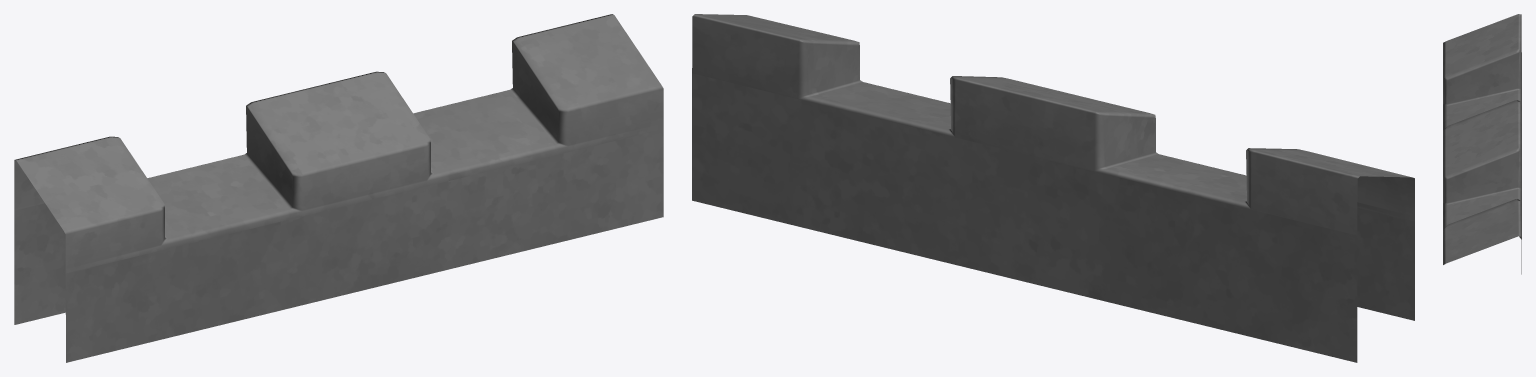
Rendered from BrickRailing_Main.fbx.
3 views of the same model, side by side, from view 1: azimuth 30°, elevation 25°; view 2: azimuth 150°, elevation 25°; view 3: azimuth 270°, elevation 25° (orthographic). The views are drawn at different scales.
Visible parts, largest first — view 1: BrickRailing_Main; view 2: BrickRailing_Main; view 3: BrickRailing_Main.
Boxes of the visible parts, x1=… form: BrickRailing_Main: x1=14, y1=14, x2=663, y2=362; BrickRailing_Main: x1=692, y1=14, x2=1414, y2=362; BrickRailing_Main: x1=1443, y1=14, x2=1521, y2=274.
Size of the model in its own units: 500 by 133 by 74.76.
1 material, 1 textured.
